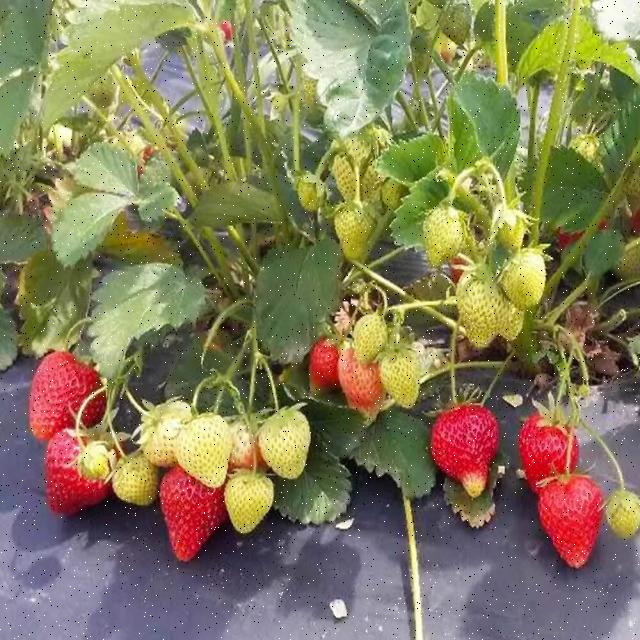Ripe Strawberry: (32, 350, 104, 441), (160, 466, 224, 560), (432, 406, 498, 496), (45, 430, 111, 515), (538, 477, 601, 566), (520, 418, 577, 489), (308, 341, 340, 388)
